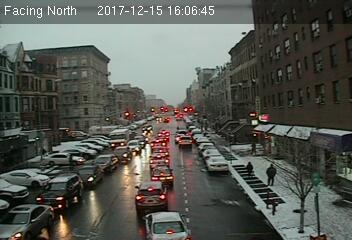car: (1, 201, 56, 240), (36, 171, 86, 210), (142, 211, 191, 240), (134, 180, 168, 208), (76, 164, 105, 188), (93, 154, 120, 173), (150, 165, 174, 184), (112, 147, 134, 164), (206, 156, 228, 173), (148, 153, 170, 167), (151, 146, 170, 157), (178, 135, 192, 148)
pedestrian: (266, 163, 277, 189), (245, 161, 256, 179)
truck: (109, 129, 131, 150)
